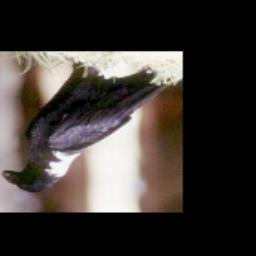Crow: (0, 58, 176, 198)
